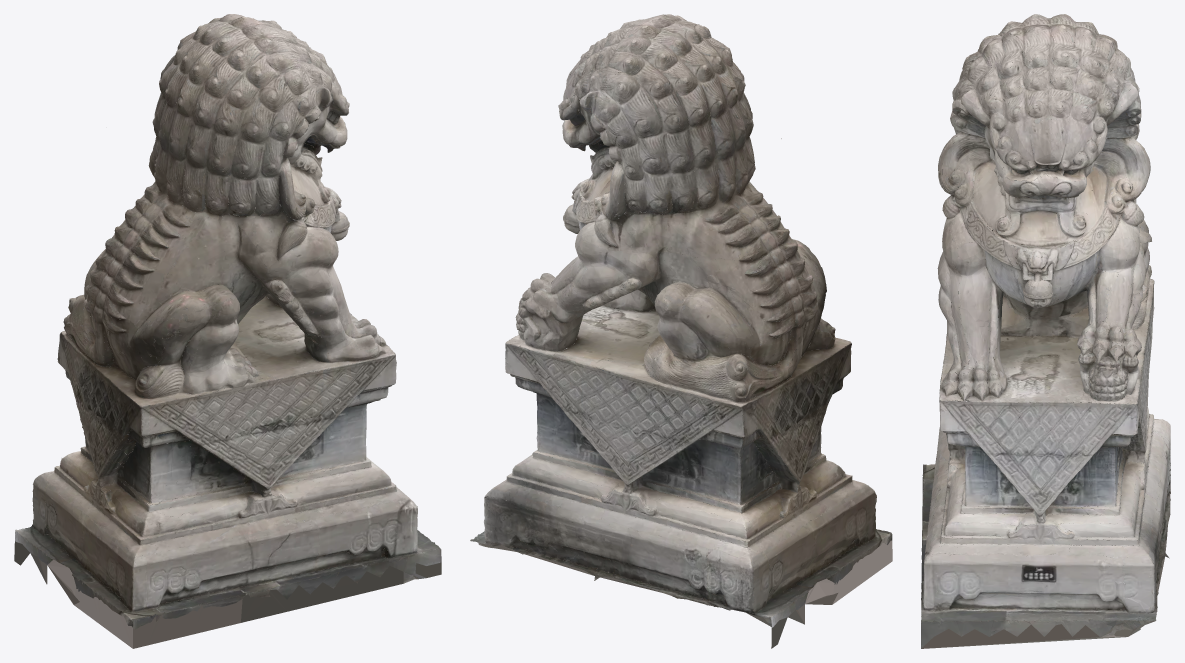
The model's file is lion_stone_big.glb.
The picture shows the model from 3 angles, left to right: view 1: azimuth 30°, elevation 25°; view 2: azimuth 150°, elevation 25°; view 3: azimuth 270°, elevation 25°; orthographic projection. The views are drawn at different scales.
Visible parts, largest first — view 1: Object_2; view 2: Object_2; view 3: Object_2.
Boxes of the visible parts, left/top/right/bottom form: Object_2: left=14, top=14, right=441, bottom=648; Object_2: left=470, top=14, right=892, bottom=648; Object_2: left=921, top=14, right=1170, bottom=648.
Bounding box in the file's own units: 19.89 × 33.14 × 13.45.
Materials: 1 (1 with a texture image).
